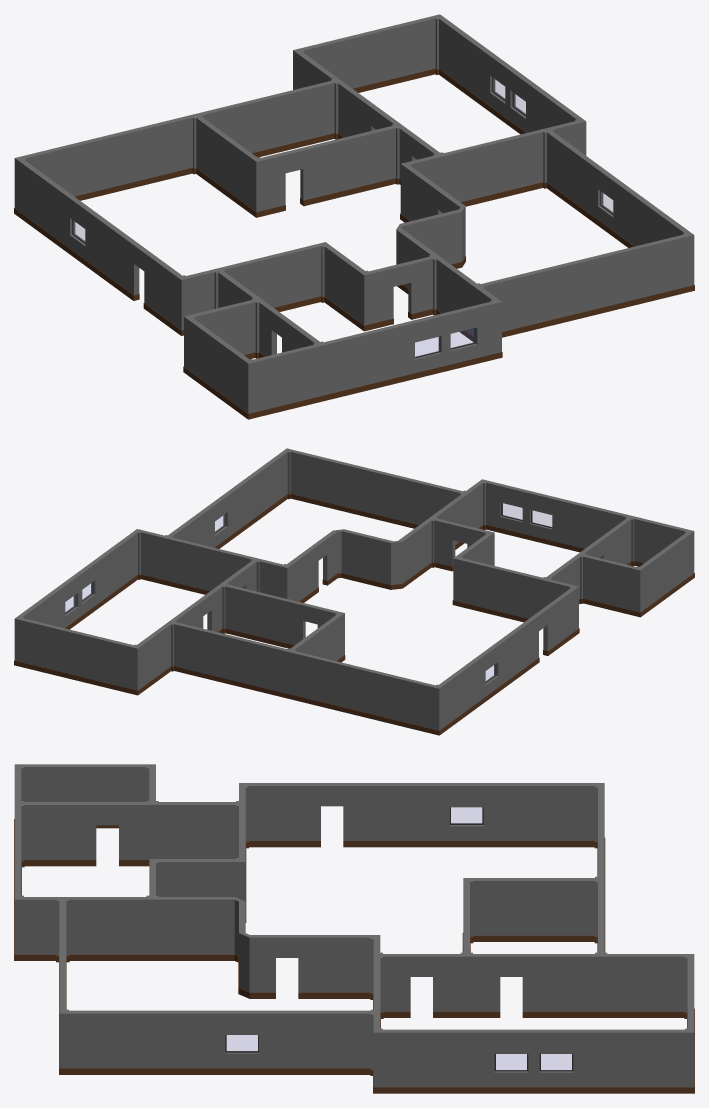
The model's file is newWalls.fbx.
The picture shows the model from 3 angles, top to bottom: view 1: azimuth 30°, elevation 25°; view 2: azimuth 150°, elevation 25°; view 3: azimuth 270°, elevation 25°; orthographic projection. The views are drawn at different scales.
Visible parts, largest first — view 1: Wall Plane; view 2: Wall Plane; view 3: Wall Plane.
Part boxes in pixels (x1,y1,x2,y2): Wall Plane: (14,14,694,419); Wall Plane: (14,448,694,735); Wall Plane: (14,764,694,1093).
Bounding box in the file's own units: 2835 × 300 × 3035.
